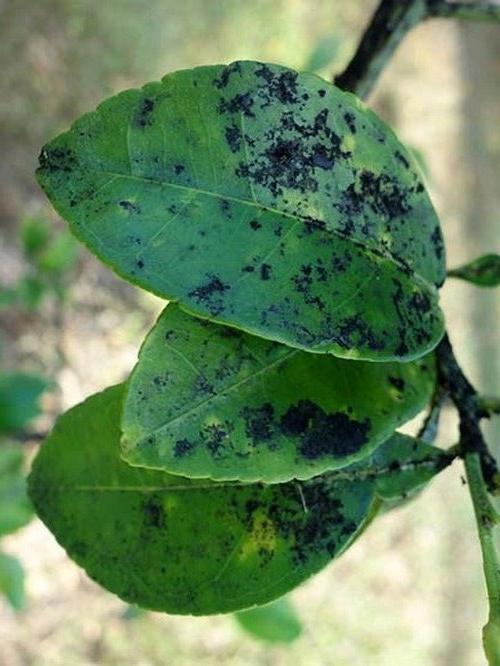soot dew: (218, 57, 348, 192), (305, 279, 438, 359), (243, 480, 355, 565), (276, 397, 375, 458), (337, 174, 413, 228), (184, 274, 225, 318), (245, 404, 275, 448), (40, 148, 77, 175)
